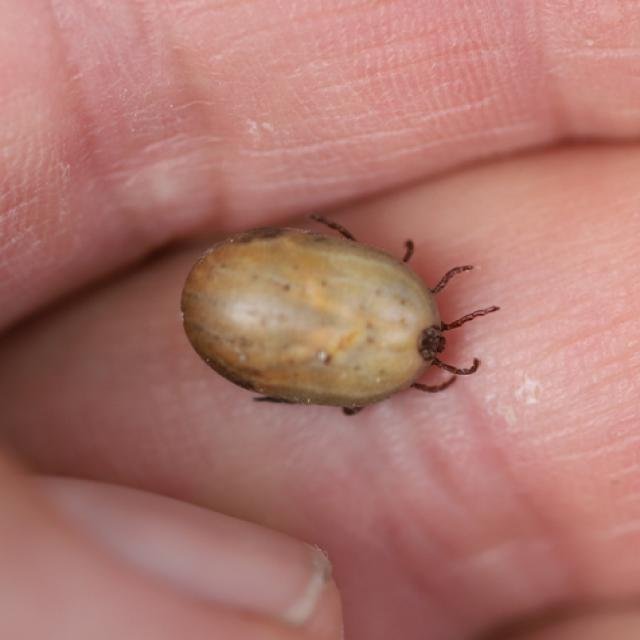Dermacentor Reticulatus-F-Fed: (182, 214, 502, 416)
